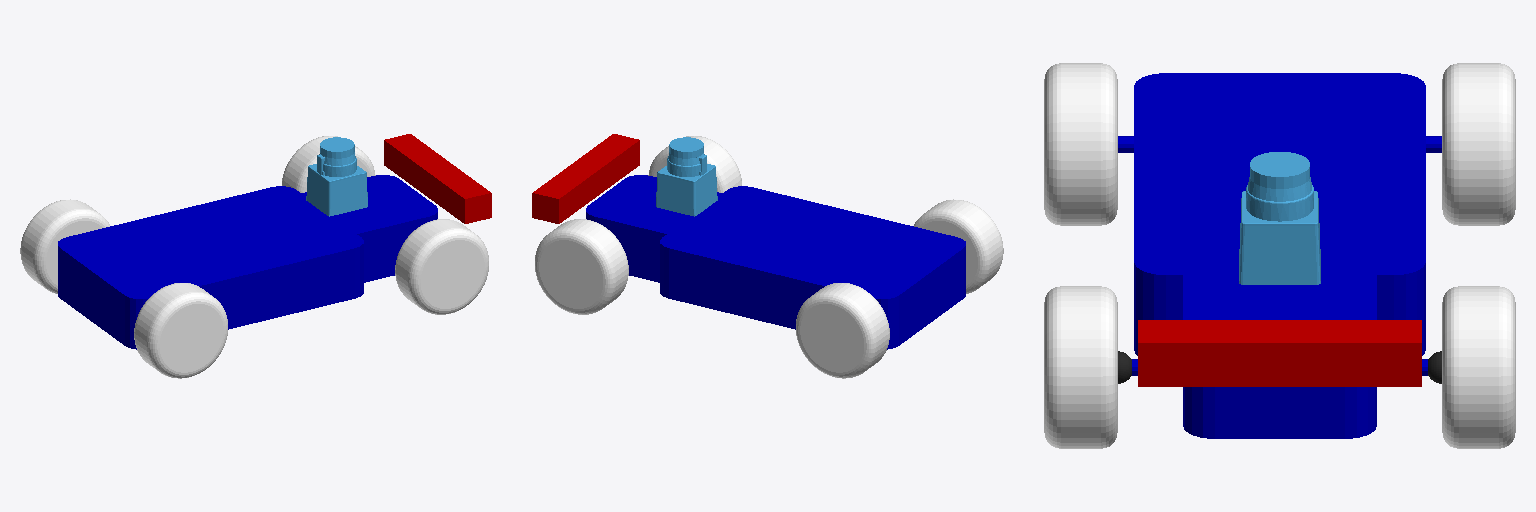
The robot description file, URDF, robot "racecar":
<?xml version="1.0" ?>
<!-- =================================================================================== -->
<!-- |    This document was autogenerated by xacro from racecar.xacro                  | -->
<!-- |    EDITING THIS FILE BY HAND IS NOT RECOMMENDED                                 | -->
<!-- =================================================================================== -->
<robot name="racecar" xmlns:xacro="http://www.ros.org/wiki/xacro">
  <!-- inertial parameter macros -->
  <!-- geometry macros -->
  <!-- transmission macros -->
  <!-- Add chassis and it's inertia link -->
  <link name="base_link">
   <inertial>
      <origin rpy="0 0 0" xyz="0 0 0"/>
      <mass value=".1"/>
      <inertia ixx="0.010609" ixy="0" ixz="0" iyy="0.050409" iyz="0" izz="0.05865"/>
    </inertial>
  </link>
  <link name="chassis">
   <inertial>
      <origin rpy="0 0 0" xyz="0 0 0"/>
      <mass value=".1"/>
      <inertia ixx="0.010609" ixy="0" ixz="0" iyy="0.050409" iyz="0" izz="0.05865"/>
    </inertial>
    <visual>
      <origin rpy="0 0 0" xyz="0 0 0"/>
      <geometry>
        <mesh filename="meshes/chassis.STL"/>
      </geometry>
      <material name="blue"/>
    </visual>
  </link>
  <joint name="base_link_joint" type="fixed">
    <origin rpy="0 0 0" xyz="0 0 0.05"/>
    <parent link="base_link"/>
    <child link="chassis"/>
  </joint>
  <link name="chassis_inertia">
    <inertial>
      <origin rpy="0 0 0" xyz="0.1477 0 0"/>
      <mass value="4.0"/>
      <inertia ixx="0.010609" ixy="0" ixz="0" iyy="0.050409" iyz="0" izz="0.05865"/>
    </inertial>
  </link>
  <joint name="chassis_inertia_joint" type="fixed">
    <origin rpy="0 0 0" xyz="0 0 0"/>
    <parent link="chassis"/>
    <child link="chassis_inertia"/>
  </joint>
  <!-- Add the left rear wheel with its joints and transmissions -->
  <link name="left_rear_wheel">
    <inertial>
      <origin rpy="0 0 0" xyz="0 0 -0.0225"/>
      <mass value="0.34055"/>
      <inertia ixx="0.00026046" ixy="0" ixz="0" iyy="0.00026046" iyz="0" izz="0.00041226"/>
    </inertial>
    <visual>
      <origin rpy="0 0 0" xyz="0 0 0"/>
      <geometry>
        <mesh filename="meshes/left_rear_wheel.obj"/>
      </geometry>
      <material name="white"/>
    </visual>
    <collision>
      robot
      
      <origin rpy="0 0 0" xyz="0 0 -0.0225"/>
      <geometry>
        <cylinder length="0.045" radius="0.05"/>
      </geometry>
    </collision>
  </link>
  <joint name="left_rear_wheel_joint" type="continuous">
    <origin rpy="1.5708 0 0" xyz="0 0.1 0"/>
    <parent link="chassis"/>
    <child link="left_rear_wheel"/>
    <axis xyz="0 0 -1"/>
    <limit effort="10" velocity="100"/>
  </joint>
  <transmission name="left_rear_wheel_transmission" type="SimpleTransmission">
    <type>transmission_interface/SimpleTransmission</type>
    <joint name="left_rear_wheel_joint">
      <hardwareInterface>EffortJointInterface</hardwareInterface>
    </joint>
    <actuator name="left_rear_wheel_motor">
      <hardwareInterface>EffortJointInterface</hardwareInterface>
      <mechanicalReduction>1</mechanicalReduction>
    </actuator>
  </transmission>
  <!-- Add the right rear wheel with its joints and transmissions -->
  <link name="right_rear_wheel">
    <inertial>
      <origin rpy="0 0 0" xyz="0 0 0.0225"/>
      <mass value="0.34055"/>
      <inertia ixx="0.00026046" ixy="0" ixz="0" iyy="0.00026046" iyz="0" izz="0.00041226"/>
    </inertial>
    <visual>
      <origin rpy="0 0 0" xyz="0 0 0"/>
      <geometry>
        <mesh filename="meshes/right_rear_wheel.obj"/>
      </geometry>
      <material name="white"/>
    </visual>
    <collision>
      <origin rpy="0 0 0" xyz="0 0 0.0225"/>
      <geometry>
        <cylinder length="0.045" radius="0.05"/>
      </geometry>
    </collision>
  </link>
  <joint name="right_rear_wheel_joint" type="continuous">
    <origin rpy="1.5708 0 0" xyz="0 -0.1 0"/>
    <parent link="chassis"/>
    <child link="right_rear_wheel"/>
    <axis xyz="0 0 -1"/>
    <limit effort="10" velocity="100"/>
  </joint>
  <transmission name="right_rear_wheel_transmission" type="SimpleTransmission">
    <type>transmission_interface/SimpleTransmission</type>
    <joint name="right_rear_wheel_joint">
      <hardwareInterface>EffortJointInterface</hardwareInterface>
    </joint>
    <actuator name="right_rear_wheel_motor">
      <hardwareInterface>EffortJointInterface</hardwareInterface>
      <mechanicalReduction>1</mechanicalReduction>
    </actuator>
  </transmission>
  <!-- Add the left steering hinge with its joints and transmissions -->
  <link name="left_steering_hinge">
    <inertial>
      <origin rpy="0 0 0" xyz="0 0 0"/>
      <mass value="0.100"/>
      <inertia ixx="4E-06" ixy="0" ixz="0" iyy="4E-06" iyz="0" izz="4E-06"/>
    </inertial>
    <visual>
      <origin rpy="0 0 0" xyz="0 0 0"/>
      <geometry>
        <mesh filename="meshes/left_steering_hinge.STL"/>
      </geometry>
      <material name="grey"/>
    </visual>
  </link>
  <joint name="left_steering_hinge_joint" type="revolute">
    <origin rpy="0 1.5708 0" xyz="0.325 0.1 0"/>
    <parent link="chassis"/>
    <child link="left_steering_hinge"/>
    <axis xyz="-1 0 0"/>
    <limit effort="10" lower="-1.0" upper="1.0" velocity="100"/>
  </joint>
  <transmission name="left_steering_hinge_transmission" type="SimpleTransmission">
    <type>transmission_interface/SimpleTransmission</type>
    <joint name="left_steering_hinge_joint">
      <hardwareInterface>EffortJointInterface</hardwareInterface>
    </joint>
    <actuator name="left_steering_hinge_motor">
      <hardwareInterface>EffortJointInterface</hardwareInterface>
      <mechanicalReduction>1</mechanicalReduction>
    </actuator>
  </transmission>
  <!-- Add the right steering hinge with its joints and transmissions -->
  <link name="right_steering_hinge">
    <inertial>
      <origin rpy="0 0 0" xyz="0 0 0"/>
      <mass value="0.100"/>
      <inertia ixx="4E-06" ixy="0" ixz="0" iyy="4E-06" iyz="0" izz="4E-06"/>
    </inertial>
    <visual>
      <origin rpy="0 0 0" xyz="0 0 0"/>
      <geometry>
        <mesh filename="meshes/right_steering_hinge.STL"/>
      </geometry>
      <material name="grey"/>
    </visual>
  </link>
  <joint name="right_steering_hinge_joint" type="continuous">
    <origin rpy="0 1.5708 0" xyz="0.325 -0.1 0"/>
    <parent link="chassis"/>
    <child link="right_steering_hinge"/>
    <axis xyz="-1 0 0"/>
    <limit effort="10" lower="-1.0" upper="1.0" velocity="100"/>
  </joint>
  <transmission name="right_steering_hinge_transmission" type="SimpleTransmission">
    <type>transmission_interface/SimpleTransmission</type>
    <joint name="right_steering_hinge_joint">
      <hardwareInterface>EffortJointInterface</hardwareInterface>
    </joint>
    <actuator name="right_steering_hinge_motor">
      <hardwareInterface>EffortJointInterface</hardwareInterface>
      <mechanicalReduction>1</mechanicalReduction>
    </actuator>
  </transmission>
  <!-- Add the left front wheel with its joints and transmissions -->
  <link name="left_front_wheel">
    <inertial>
      <origin rpy="0 0 0" xyz="0 0 -0.0225"/>
      <mass value="0.34055"/>
      <inertia ixx="0.00026046" ixy="0" ixz="0" iyy="0.00026046" iyz="0" izz="0.00041226"/>
    </inertial>
    <visual>
      <origin rpy="0 0 0" xyz="0 0 0"/>
      <geometry>
        <mesh filename="meshes/left_front_wheel.obj"/>
      </geometry>
      <material name="white"/>
    </visual>
    <collision>
      <origin rpy="0 0 0" xyz="0 0 -0.0225"/>
      <geometry>
        <cylinder length="0.045" radius="0.05"/>
      </geometry>
    </collision>
  </link>
  <joint name="left_front_wheel_joint" type="continuous">
    <origin rpy="1.5708 0 0" xyz="0 0 0"/>
    <parent link="left_steering_hinge"/>
    <child link="left_front_wheel"/>
    <axis xyz="0 0 -1"/>
    <limit effort="10" velocity="100"/>
  </joint>
  <transmission name="left_front_wheel_transmission" type="SimpleTransmission">
    <type>transmission_interface/SimpleTransmission</type>
    <joint name="left_front_wheel_joint">
      <hardwareInterface>EffortJointInterface</hardwareInterface>
    </joint>
    <actuator name="left_front_wheel_motor">
      <hardwareInterface>EffortJointInterface</hardwareInterface>
      <mechanicalReduction>1</mechanicalReduction>
    </actuator>
  </transmission>
  <!-- Add the left front wheel with its joints and transmissions -->
  <link name="right_front_wheel">
    <inertial>
      <origin rpy="0 0 0" xyz="0 0 0.0225"/>
      <mass value="0.34055"/>
      <inertia ixx="0.00026046" ixy="0" ixz="0" iyy="0.00026046" iyz="0" izz="0.00041226"/>
    </inertial>
    <visual>
      <origin rpy="0 0 0" xyz="0 0 0"/>
      <geometry>
        <mesh filename="meshes/right_front_wheel.obj"/>
      </geometry>
      <material name="white"/>
    </visual>
    <collision>
      <origin rpy="0 0 0" xyz="0 0 0.0225"/>
      <geometry>
        <cylinder length="0.045" radius="0.05"/>
      </geometry>
    </collision>
  </link>
  <joint name="right_front_wheel_joint" type="continuous">
    <origin rpy="1.5708 0 0" xyz="0 0 0"/>
    <parent link="right_steering_hinge"/>
    <child link="right_front_wheel"/>
    <axis xyz="0 0 -1"/>
    <limit effort="10" velocity="100"/>
  </joint>
  <transmission name="right_front_wheel_transmission" type="SimpleTransmission">
    <type>transmission_interface/SimpleTransmission</type>
    <joint name="right_front_wheel_joint">
      <hardwareInterface>EffortJointInterface</hardwareInterface>
    </joint>
    <actuator name="right_front_wheel_motor">
      <hardwareInterface>EffortJointInterface</hardwareInterface>
      <mechanicalReduction>1</mechanicalReduction>
    </actuator>
  </transmission>
  <!-- Add Hokuyo laser scanner -->
  <link name="laser">
    <inertial>
      <origin rpy="0 0 0" xyz="0 0 0"/>
      <mass value="0.130"/>
      <inertia ixx="4E-06" ixy="0" ixz="0" iyy="4E-06" iyz="0" izz="4E-06"/>
    </inertial>
    <collision>
      <origin rpy="0 0 0" xyz="0 0 0"/>
      <geometry>
        <box size="0.1 0.1 0.1"/>
      </geometry>
    </collision>
    <visual>
      <origin rpy="0 0 0" xyz="0 0 0"/>
      <geometry>
        <mesh filename="meshes/hokuyo.obj"/>
        <material name="grey"/>
      </geometry>
    </visual>
  </link>
  <joint name="hokuyo_joint" type="fixed">
    <origin rpy="0 0 0" xyz="0.265 0.0 0.075"/>
    <parent link="chassis"/>
    <child link="laser"/>
    <axis xyz="0 0 1"/>
  </joint>
  <!-- zed camera -->
  <link name="zed_camera_link">
    <inertial>
      <mass value="1e-5"/>
      <origin rpy="0 0 0" xyz="0 0 0"/>
      <inertia ixx="1e-6" ixy="0" ixz="0" iyy="1e-6" iyz="0" izz="1e-6"/>
    </inertial>
    <collision>
      <origin rpy="0 0 0" xyz="0 0 0"/>
      <geometry>
        <box size="0.033 0.175 0.030"/>
      </geometry>
    </collision>
    <visual>
      <origin rpy="0 0 0" xyz="0 0 0"/>
      <geometry>
        <box size="0.033 0.175 0.030"/>
      </geometry>
      <material name="red"/>
    </visual>
  </link>
  <joint name="zed_camera_joint" type="fixed">
    <origin rpy="0 0 0" xyz="0.390 0 0.04"/>
    <parent link="chassis"/>
    <child link="zed_camera_link"/>
    <axis xyz="0 0 1"/>
    <!-- <limit lower="0.0" upper="0.0" effort="0.0" velocity="0.0" /> -->
  </joint>
  <!-- zed camera lenses -->
  <!-- It seems these have to have a non-zero mass to have a camera attached? -->
  <link name="camera_link">
    <!-- this needs to match the name in zed_wrapper/zed_tf.launch -->
    <inertial>
      <mass value="1e-5"/>
      <origin rpy="0 0 0" xyz="0 0 0"/>
      <inertia ixx="1e-6" ixy="0" ixz="0" iyy="1e-6" iyz="0" izz="1e-6"/>
    </inertial>
  </link>
  <link name="zed_camera_right_link">
    <inertial>
      <mass value="1e-5"/>
      <origin rpy="0 0 0" xyz="0 0 0"/>
      <inertia ixx="1e-6" ixy="0" ixz="0" iyy="1e-6" iyz="0" izz="1e-6"/>
    </inertial>
  </link>
  <joint name="zed_camera_left_joint" type="fixed">
    <origin rpy="0 0 0" xyz="0 0.06 0"/>
    <parent link="zed_camera_link"/>
    <child link="camera_link"/>
    <axis xyz="0 0 1"/>
  </joint>
  <joint name="zed_camera_right_joint" type="fixed">
    <origin rpy="0 0 0" xyz="0 -0.06 0"/>
    <parent link="zed_camera_link"/>
    <child link="zed_camera_right_link"/>
    <axis xyz="0 0 1"/>
  </joint>
  <!-- Add the remaining xacros -->
  <!-- Gazebo references -->
  <gazebo reference="chassis">
    <mu1 value="0.0"/>
    <mu2 value="0.0"/>
    <kp value="10000000.0"/>
    <kd value="1.0"/>
    <material>Gazebo/Blue</material>
  </gazebo>
  <gazebo reference="left_rear_wheel">
    <mu1 value="1.0"/>
    <mu2 value="1.0"/>
    <kp value="10000000.0"/>
    <kd value="1.0"/>
    <fdir1 value="1 0 0"/>
    <material>Gazebo/Black</material>
  </gazebo>
  <gazebo reference="right_rear_wheel">
    <mu1 value="1.0"/>
    <mu2 value="1.0"/>
    <kp value="10000000.0"/>
    <kd value="1.0"/>
    <fdir1 value="1 0 0"/>
    <material>Gazebo/Black</material>
  </gazebo>
  <gazebo reference="left_front_wheel">
    <mu1 value="1.0"/>
    <mu2 value="1.0"/>
    <kp value="10000000.0"/>
    <kd value="1.0"/>
    <fdir1 value="0 0 1"/>
    <material>Gazebo/Black</material>
  </gazebo>
  <gazebo reference="right_front_wheel">
    <mu1 value="1.0"/>
    <mu2 value="1.0"/>
    <kp value="10000000.0"/>
    <kd value="1.0"/>
    <fdir1 value="0 0 1"/>
    <material>Gazebo/Black</material>
  </gazebo>
  <!-- Gazebo plugins -->
  <gazebo>
    <plugin filename="libgazebo_ros_control.so" name="gazebo_ros_control">
      <robotNamespace>/racecar</robotNamespace>
      <robotSimType>gazebo_ros_control/DefaultRobotHWSim</robotSimType>
    </plugin>
  </gazebo>
  <gazebo reference="laser">
    <material>Gazebo/Grey</material>
    <sensor name="hokuyo_sensor" type="ray">
      <pose>0 0 0.0124 0 0 0</pose>
      <visualize>true</visualize>
      <update_rate>40</update_rate>
      <ray>
        <scan>
          <horizontal>
            <samples>1081</samples>
            <resolution>1</resolution>
            <min_angle>-2.3561944902</min_angle>
            <max_angle>2.3561944902</max_angle>
          </horizontal>
        </scan>
        <range>
          <min>0.1</min>
          <max>10.0</max>
          <resolution>0.01</resolution>
        </range>
        <noise>
          <mean>0.0</mean>
          <stddev>0.01</stddev>
        </noise>
      </ray>
      <plugin filename="libgazebo_ros_laser.so" name="gazebo_ros_hokuyo_controller">
        <topicName>/scan</topicName>
        <frameName>laser</frameName>
      </plugin>
    </sensor>
  </gazebo>
  <gazebo reference="camera_link">
    <sensor name="zed_camera_left_sensor" type="camera">
      <update_rate>30.0</update_rate>
      <!-- math.atan(320 / 687.8065795898438) * 2 -->
      <camera name="zed_camera_left_camera">
        <horizontal_fov>0.8709216071359963</horizontal_fov>
        <image>
          <width>640</width>
          <height>480</height>
          <format>B8G8R8</format>
        </image>
        <clip>
          <near>0.02</near>
          <far>300</far>
        </clip>
        <noise>
          <type>gaussian</type>
          <mean>0.0</mean>
          <stddev>0.007</stddev>
        </noise>
      </camera>
      <plugin filename="libgazebo_ros_camera.so" name="camera_controller">
        <alwaysOn>true</alwaysOn>
        <updateRate>30.0</updateRate>
        <cameraName>/camera/zed</cameraName>
        <imageTopicName>rgb/image_rect_color</imageTopicName>
        <cameraInfoTopicName>rgb/camera_info</cameraInfoTopicName>
        <frameName>camera_link</frameName>
        <hackBaseline>0</hackBaseline>
        <!-- set this to 0.12 for the second camera -->
        <distortionK1>0.0</distortionK1>
        <distortionK2>0.0</distortionK2>
        <distortionK3>0.0</distortionK3>
        <distortionT1>0.0</distortionT1>
        <distortionT2>0.0</distortionT2>
      </plugin>
    </sensor>
  </gazebo>
  <material name="white">
    <color rgba="1. 1. 1. 1.0"/>
  </material>
  <material name="black">
    <color rgba="0. 0. 0. 1.0"/>
  </material>
  <material name="blue">
    <color rgba="0.0 0.0 0.8 1.0"/>
  </material>
  <material name="green">
    <color rgba="0.0 0.8 0.0 1.0"/>
  </material>
  <material name="grey">
    <color rgba="0.2 0.2 0.2 1.0"/>
  </material>
  <material name="orange">
    <color rgba="1.0 0.423529411765 0.0392156862745 1.0"/>
  </material>
  <material name="brown">
    <color rgba="0.870588235294 0.811764705882 0.764705882353 1.0"/>
  </material>
  <material name="red">
    <color rgba="0.8 0.0 0.0 1.0"/>
  </material>
</robot>

--- What the picture shows (computed from the rendered views, not written in the file) ---
The picture shows the robot from 3 angles, left to right: view 1: azimuth 30°, elevation 25°; view 2: azimuth 150°, elevation 25°; view 3: azimuth 270°, elevation 25°; orthographic projection.
Robot: racecar — 13 links, 12 joints (1 revolute, 5 continuous, 6 fixed); root link base_link; default pose: every joint at zero.
Links seen in each view (by area): view 1: chassis, right_rear_wheel, right_front_wheel, zed_camera_link, left_rear_wheel, laser, left_front_wheel; view 2: chassis, left_rear_wheel, left_front_wheel, zed_camera_link, right_rear_wheel, laser, right_front_wheel; view 3: chassis, zed_camera_link, left_rear_wheel, right_rear_wheel, left_front_wheel, right_front_wheel, laser.
Boxes of the visible links, left/top/right/bottom form: chassis: left=58, top=175, right=437, bottom=349; right_rear_wheel: left=134, top=283, right=227, bottom=378; right_front_wheel: left=395, top=219, right=488, bottom=314; zed_camera_link: left=384, top=134, right=491, bottom=223; left_rear_wheel: left=20, top=199, right=109, bottom=293; laser: left=306, top=137, right=367, bottom=216; left_front_wheel: left=282, top=136, right=375, bottom=192; chassis: left=586, top=175, right=965, bottom=349; left_rear_wheel: left=796, top=283, right=889, bottom=378; left_front_wheel: left=535, top=219, right=628, bottom=314; zed_camera_link: left=532, top=134, right=639, bottom=223; right_rear_wheel: left=914, top=199, right=1003, bottom=293; laser: left=656, top=137, right=717, bottom=216; right_front_wheel: left=648, top=136, right=741, bottom=192; chassis: left=1118, top=73, right=1441, bottom=438; zed_camera_link: left=1138, top=320, right=1421, bottom=386; left_rear_wheel: left=1442, top=63, right=1515, bottom=225; right_rear_wheel: left=1044, top=63, right=1117, bottom=225; left_front_wheel: left=1442, top=286, right=1515, bottom=448; right_front_wheel: left=1044, top=286, right=1117, bottom=448; laser: left=1239, top=152, right=1320, bottom=284.
Size in the robot's own frame: 0.4564 by 0.29 by 0.1601 metres.
8 mesh visuals loaded from 8 distinct referenced files (3 binary STL, 5 OBJ).
